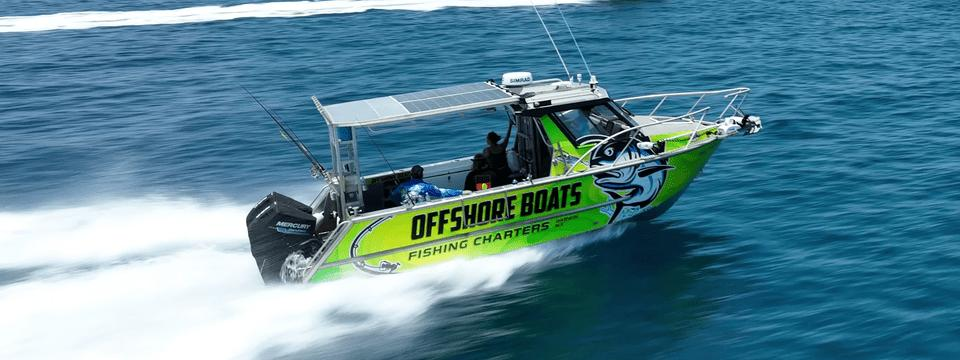fishing boat: (225, 1, 765, 291)
